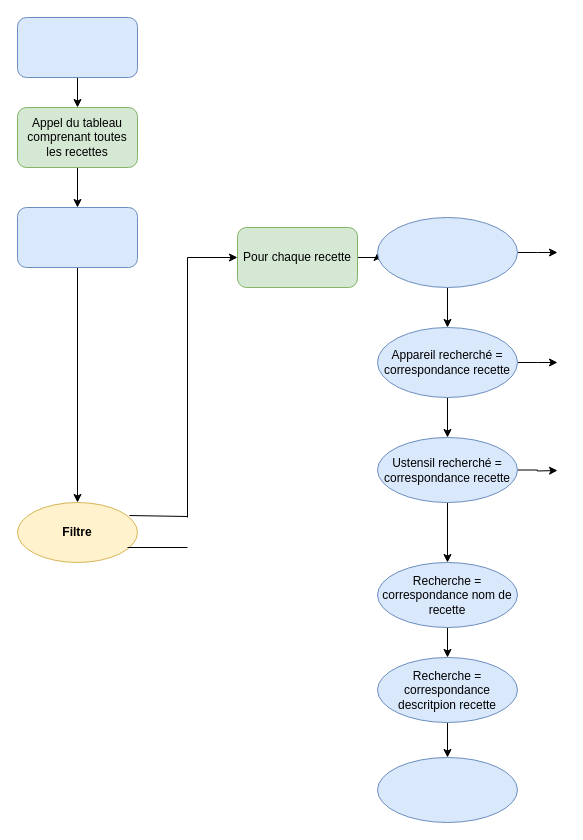
This 583x840 diagram has some shape labels left out. Here are the shapes that lost their labels. From the top down, the centre of each, then its label:
At pixel 77 47: "User search".
At pixel 77 237: "Pré traitement des données afin de faciliter le tri".
At pixel 447 252: "Ingrédient recherché = correspondance recette".
At pixel 447 789: "Recherche = correspondance ingrédients recette".
